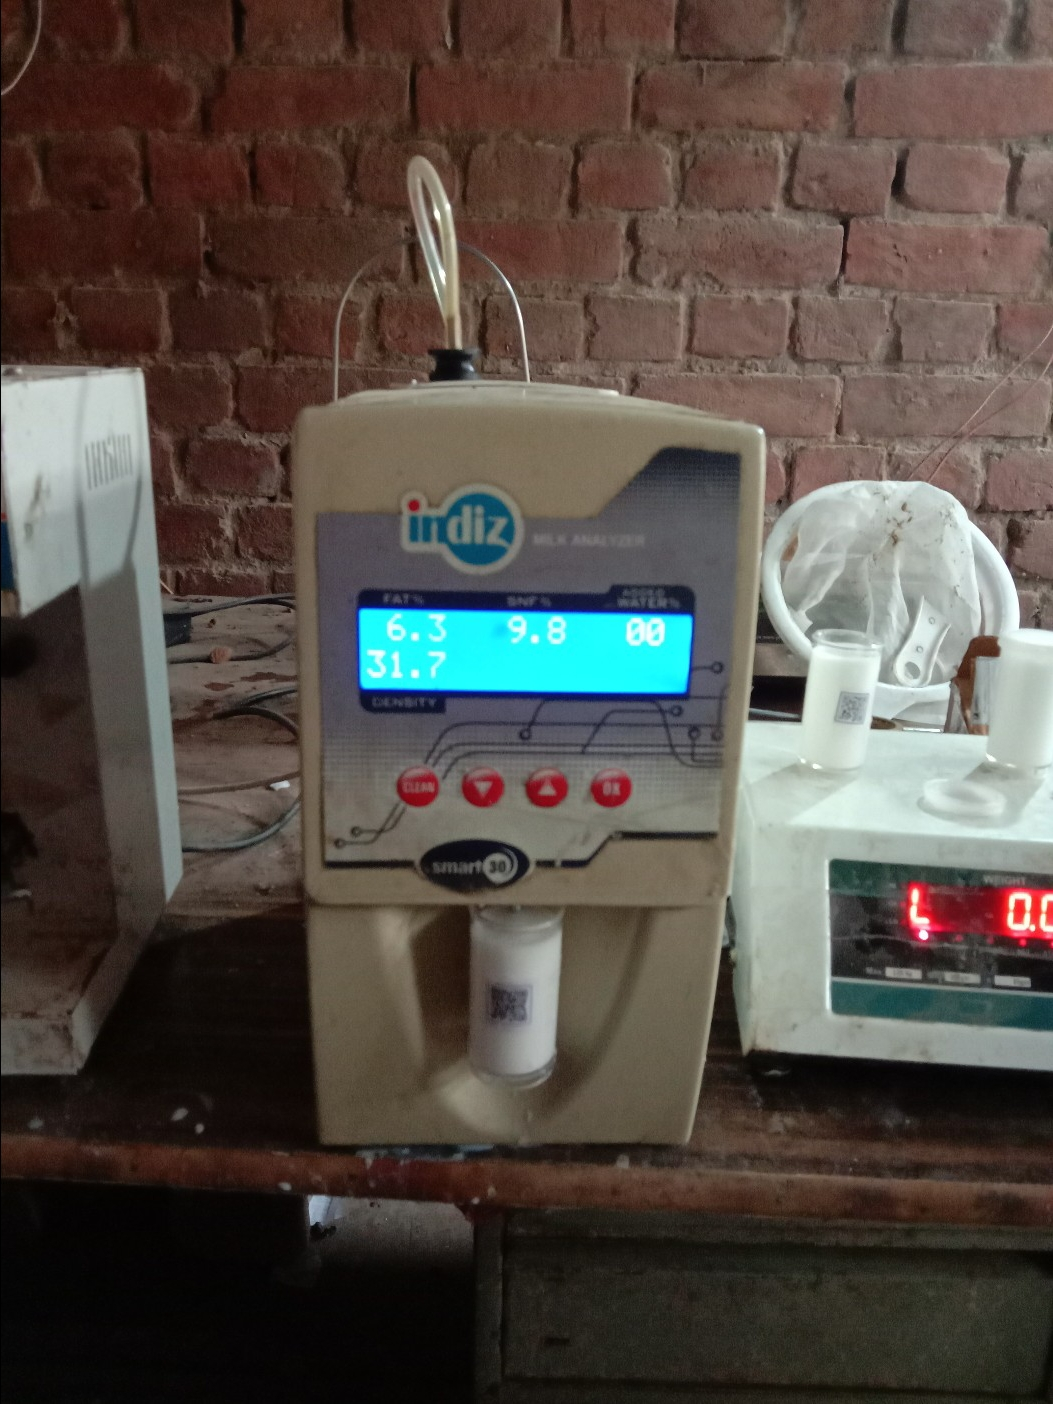lcd: (350, 588, 700, 708)
qr: (478, 978, 534, 1029)
